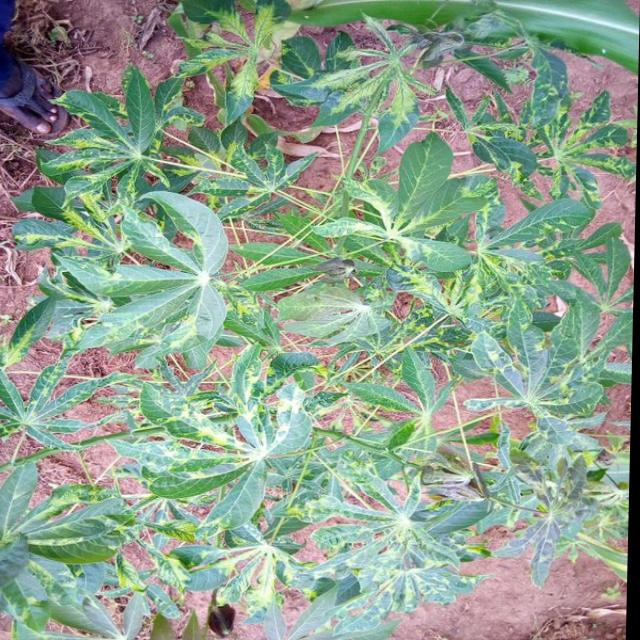Mosaico: (172, 345, 311, 502), (326, 26, 432, 148), (20, 160, 142, 265), (197, 0, 296, 101), (545, 96, 633, 203), (191, 128, 270, 203)
